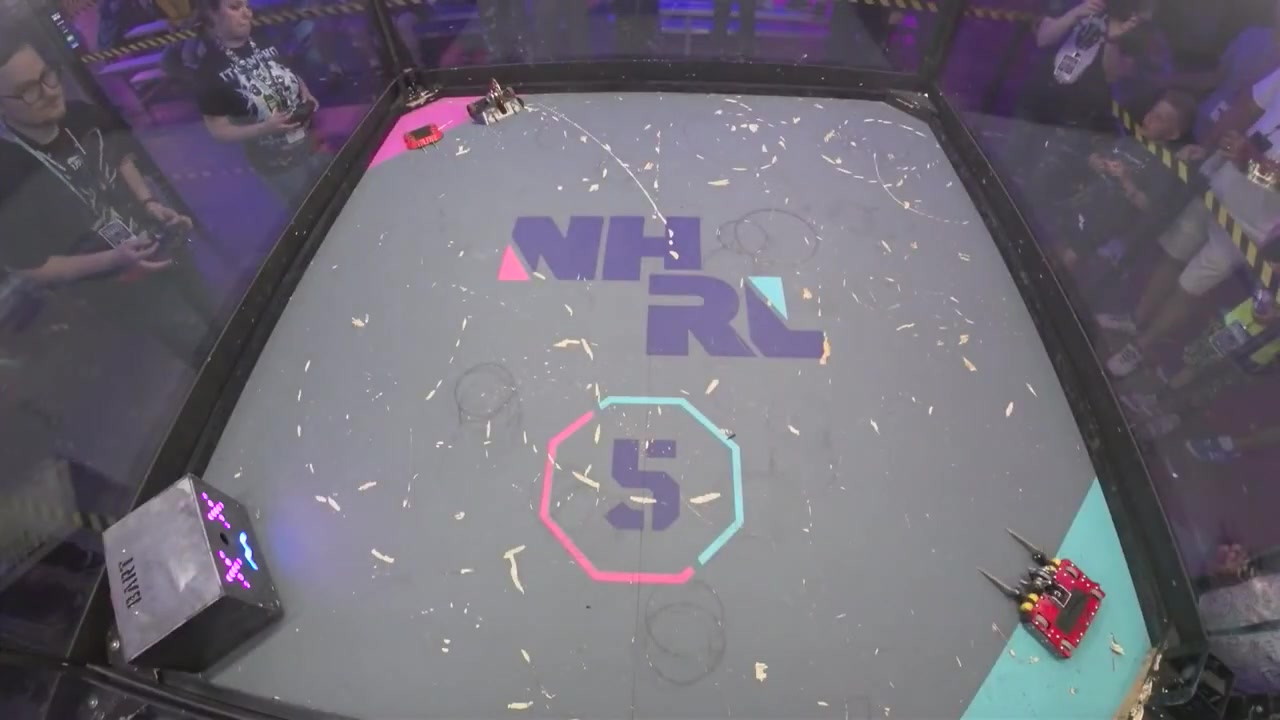combatbot: (978, 528, 1108, 664), (464, 79, 529, 126), (402, 121, 446, 151)
housebot: (99, 473, 288, 675)
minibot: (402, 121, 446, 150)
